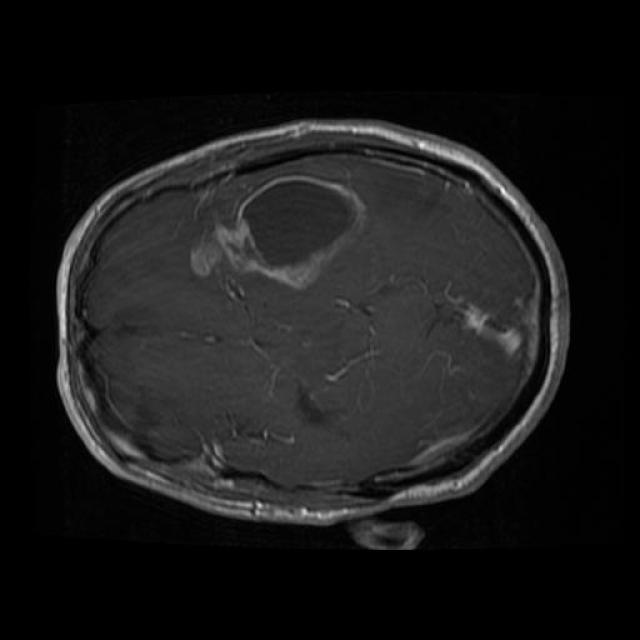Glioma: (190, 176, 365, 289)
